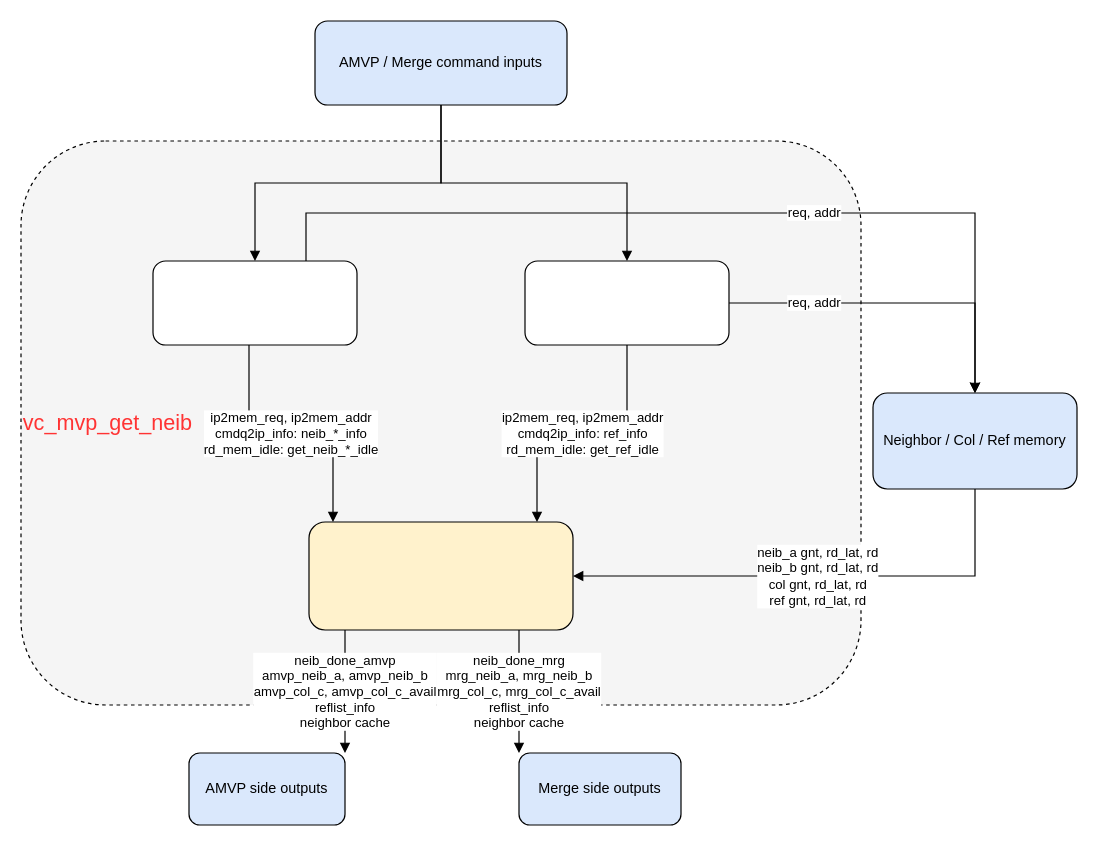
The diagram is 1098 pixels wide and 846 high, and some of its shapes have lost their labels. The shapes that lost their labels are listed below. From the top down, each one's box as (x1, y1, x2, y2) in pixels, then its label:
(152, 260, 357, 345): U_GET_NEIB_A/B/C vc_mvp_rd_mem
(524, 260, 729, 345): U_GET_REFLIST vc_mvp_rd_mem
(308, 521, 573, 630): local reg and comb neighbor cache registers reflist_info get_neib functions
